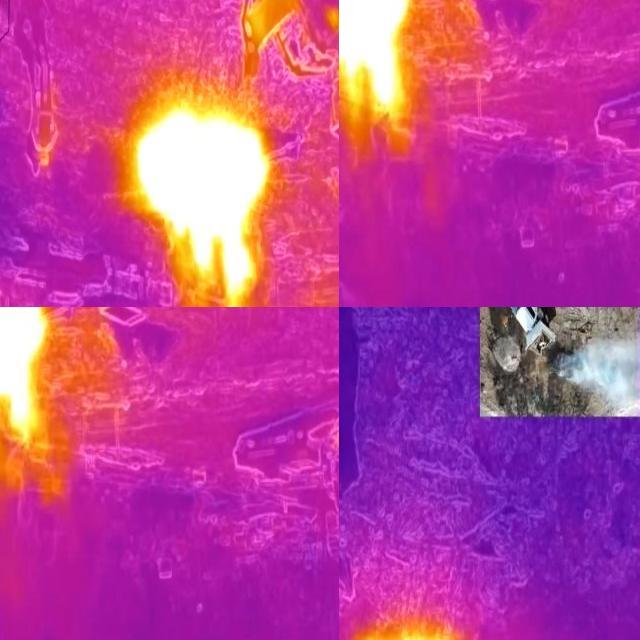fire: (135, 99, 269, 301), (340, 1, 411, 134), (1, 308, 48, 435)
